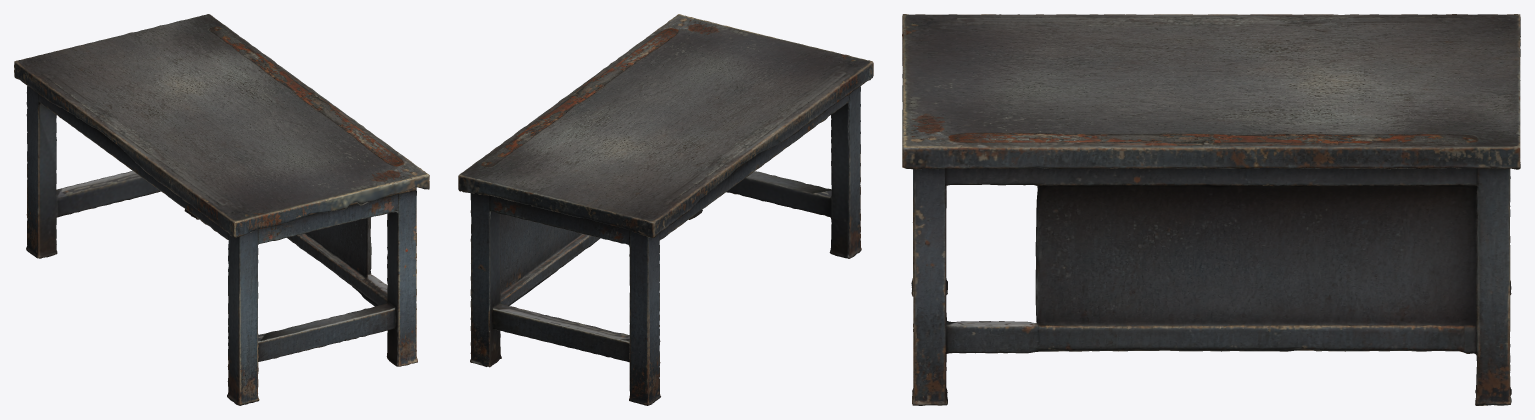
The model's file is HidingTable.glb.
3 renders of one model, left to right at view 1: azimuth 30°, elevation 25°; view 2: azimuth 150°, elevation 25°; view 3: azimuth 270°, elevation 25°, orthographic. The views are drawn at different scales.
Parts seen in each view (by area): view 1: texture_mapping; view 2: texture_mapping; view 3: texture_mapping.
Part boxes in pixels (bbox=[...]): texture_mapping: bbox=[14, 14, 429, 405]; texture_mapping: bbox=[458, 14, 873, 405]; texture_mapping: bbox=[902, 14, 1520, 405].
Bounding box in the file's own units: 0.5145 × 0.476 × 1.
1 material, 1 textured.
